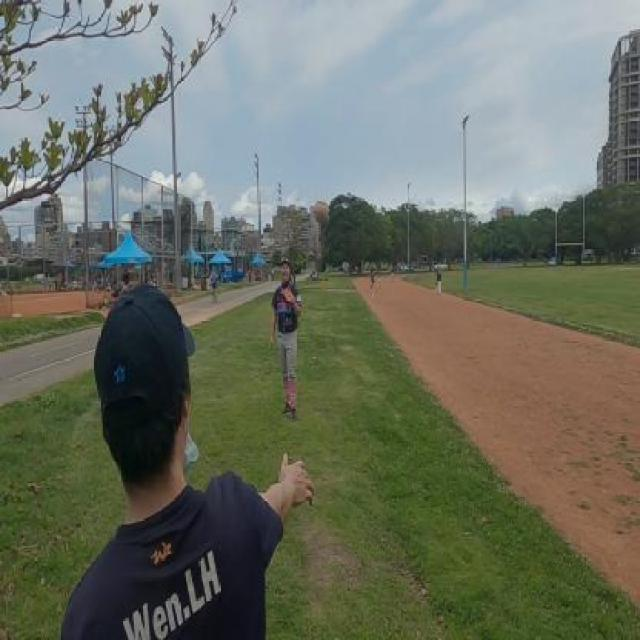baseball: (314, 196, 329, 227)
